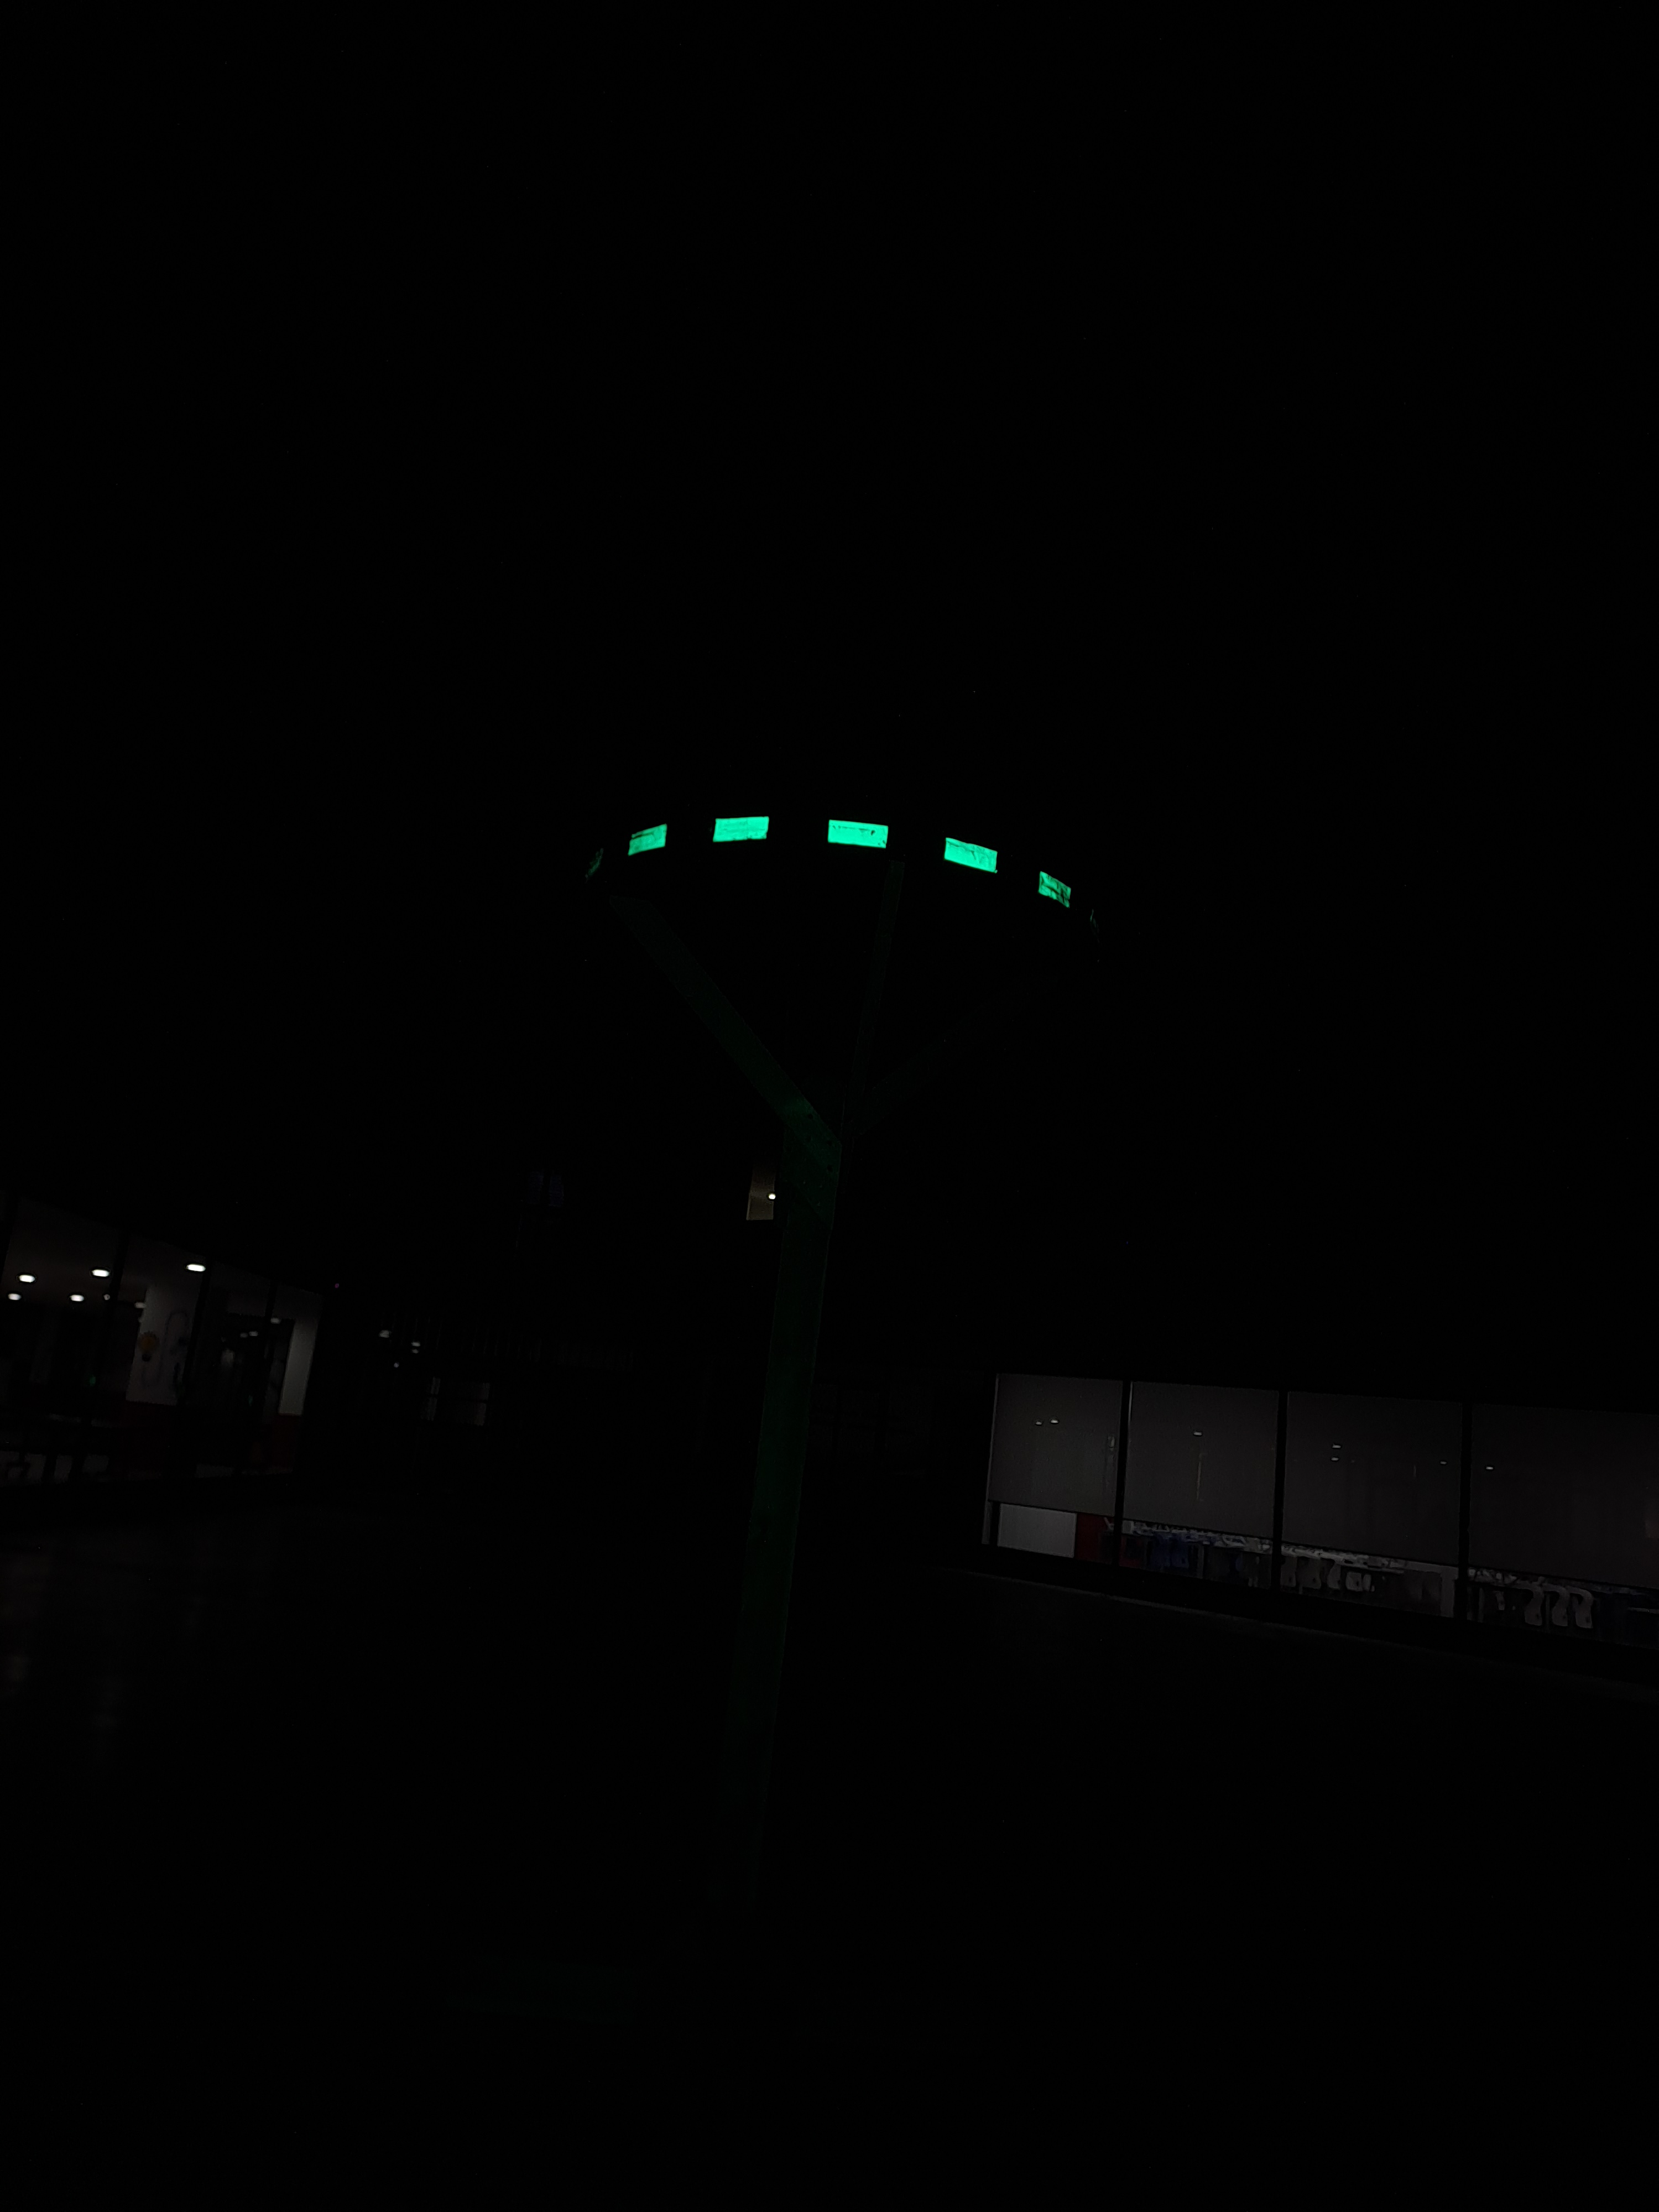hoop: (626, 798, 1077, 916)
